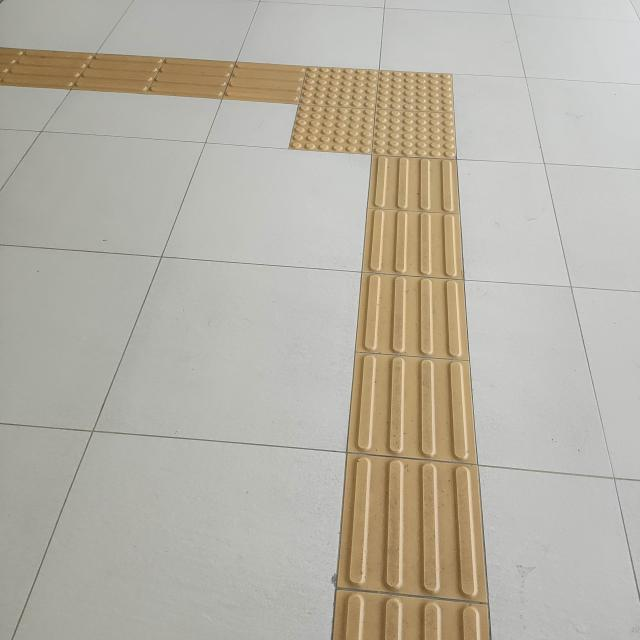kiri: (153, 11, 536, 232)
